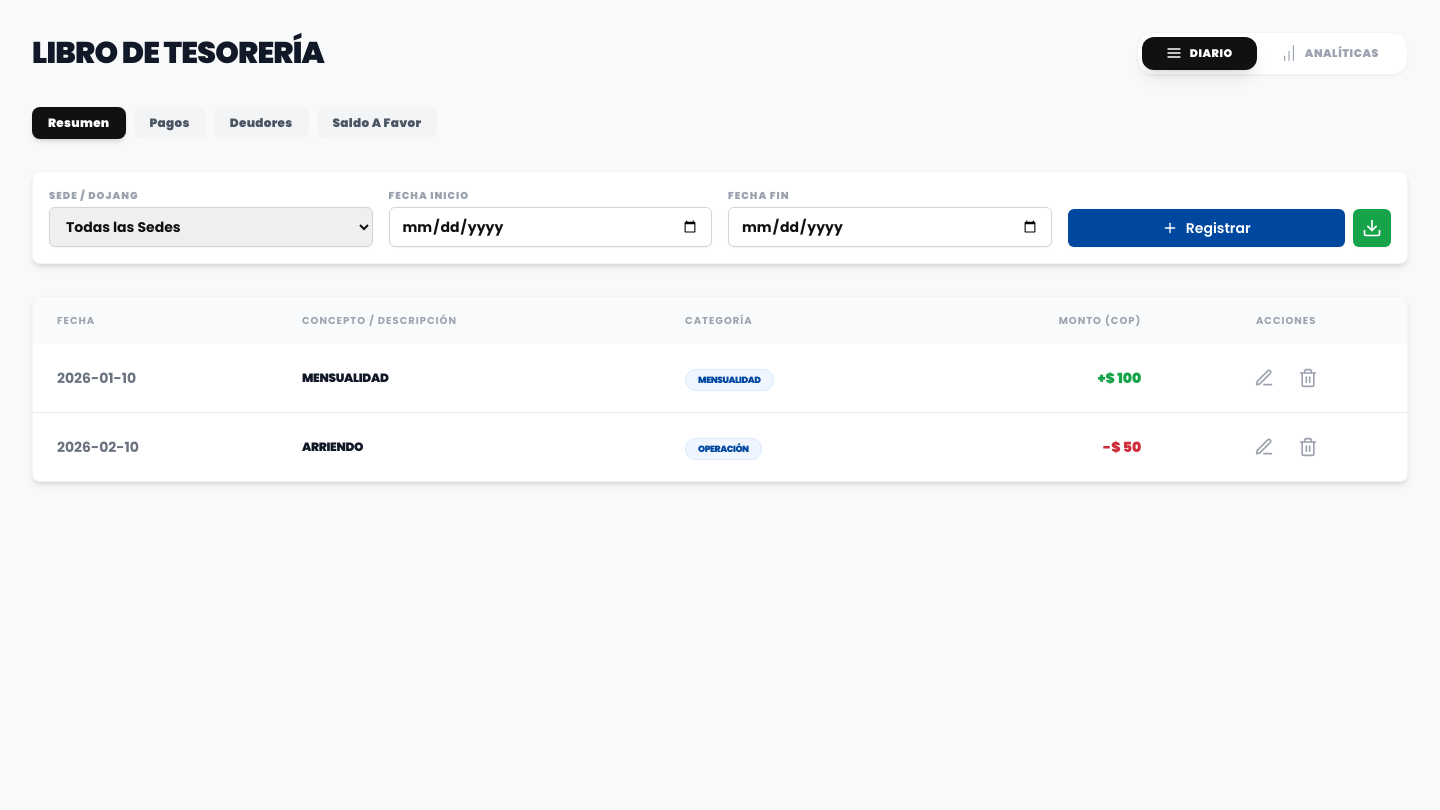
Test: VistaFinanzas › muestra la sección Saldo a Favor con el total correcto, excluyendo a los deudores
The image size is (1440, 810).
Click the button "Saldo a Favor".
click(377, 122)  # box [316,106,437,138]
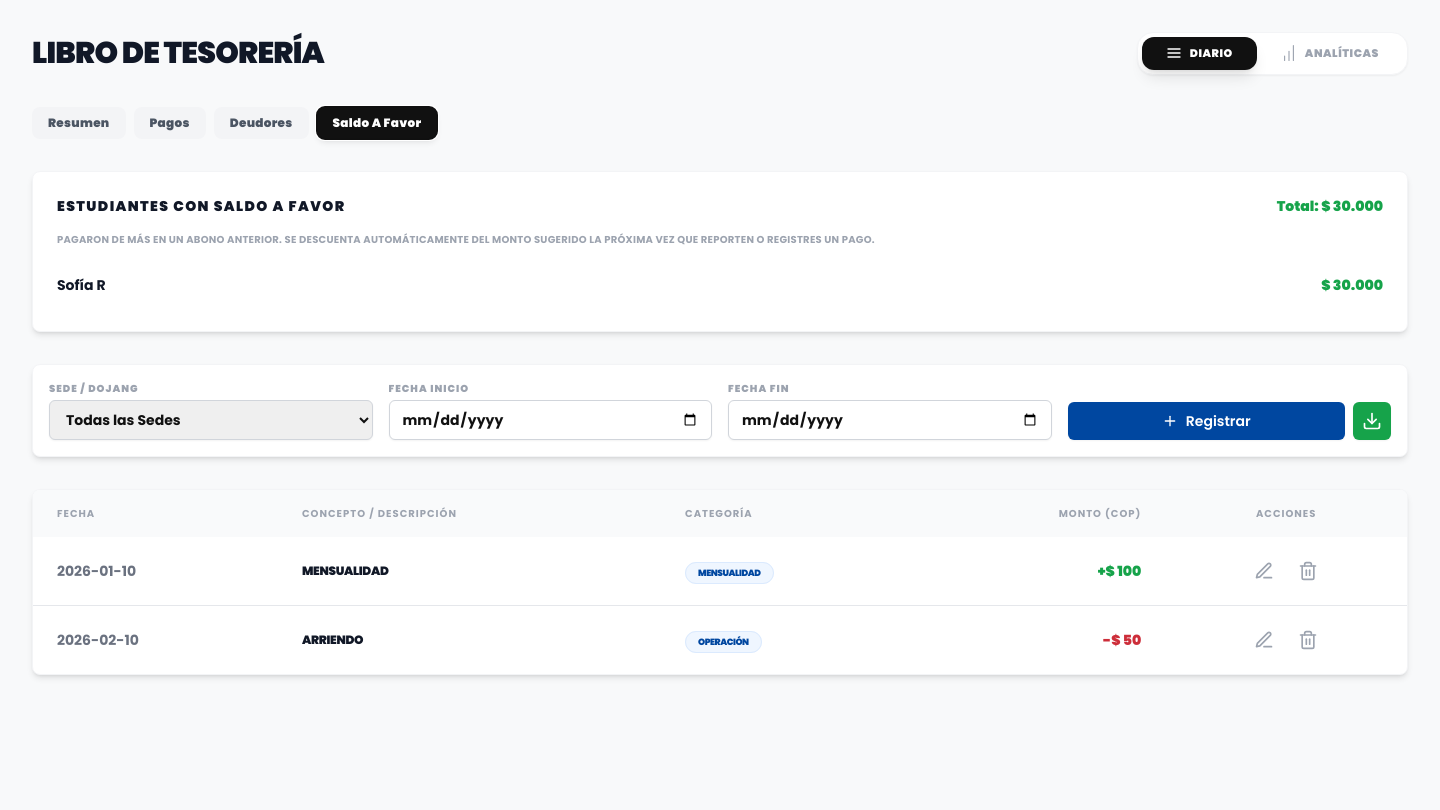
Expected: the text "Sofía R" is shown, [57,274,106,294]
Expected: the text "Total: $ 30.000" is shown, [1277,196,1383,216]
